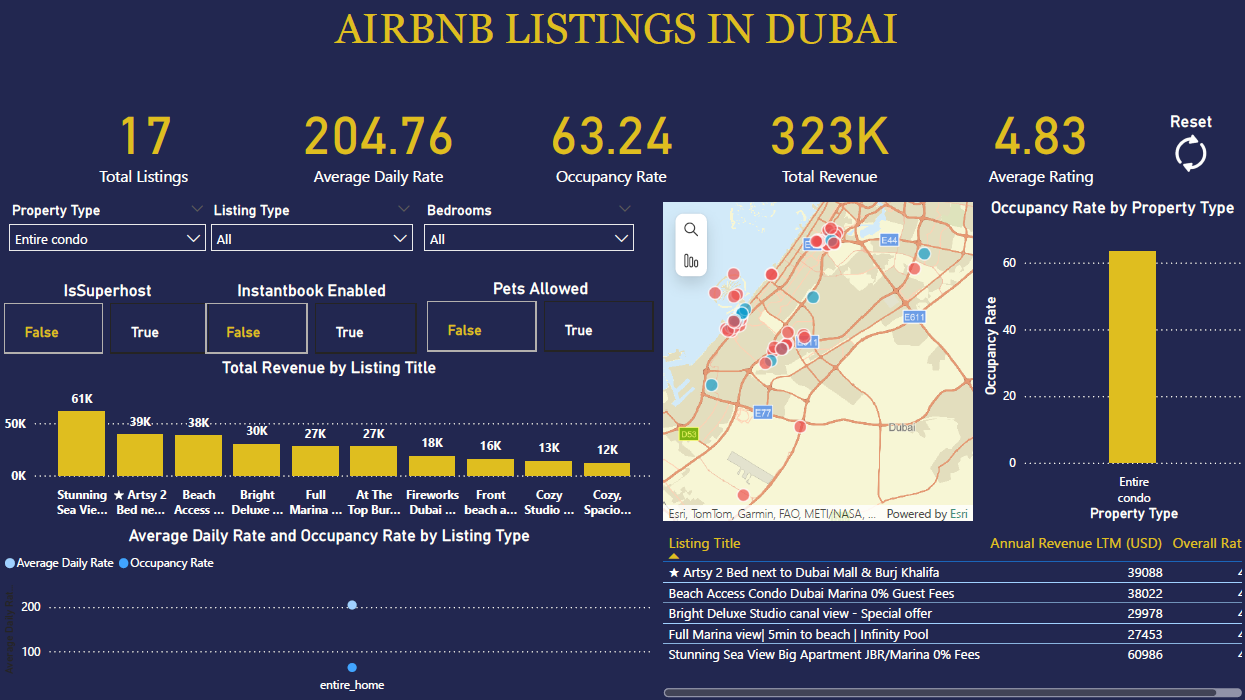

What the dashboard file says about the page in this screenshot:
{"tool":"powerbi","page":{"name":"Page 1","canvas":[1280,720],"ordinal":0},"visuals":[{"type":"card","fields":{"Values":["Measures Table.Average Daily Rate"]},"box":[263,82,252,120],"z":0},{"type":"card","fields":{"Values":["Measures Table.Average Rating"]},"box":[958,82,222,120],"z":1000},{"type":"card","fields":{"Values":["Measures Table.Total Listings"]},"box":[28,82,240,120],"z":2000},{"type":"card","fields":{"Values":["Measures Table.Occupancy Rate"]},"box":[510,82,236,120],"z":3000},{"type":"card","fields":{"Values":["Measures Table.Total Revenue"]},"box":[741,82,222,120],"z":4000},{"type":"slicer","fields":{"Values":["Cleaned_Listings.Property Type"]},"box":[0,202.4,221.8,84.2],"z":6000},{"type":"slicer","fields":{"Values":["Cleaned_Listings.Listing Type"]},"box":[207.3,202.4,226.7,84.2],"z":7000},{"type":"slicer","fields":{"Values":["Cleaned_Listings.Bedrooms"]},"box":[425.9,202.4,234.8,84.2],"z":8000},{"type":"advancedSlicerVisual","fields":{"Values":["Cleaned_Listings.IsSuperhost"]},"box":[0,286.6,221.8,81],"z":9000},{"type":"advancedSlicerVisual","fields":{"Values":["Cleaned_Listings.Instantbook Enabled"]},"box":[207.3,286.6,226.7,81],"z":10000},{"type":"advancedSlicerVisual","fields":{"Values":["Cleaned_Listings.Pets Allowed"]},"box":[434,285,242.9,81],"z":11000},{"type":"clusteredColumnChart","fields":{"Category":["Cleaned_Listings.Listing Title"],"Y":["Measures Table.Total Revenue"]},"box":[0,365.9,676.8,173.3],"z":12000},{"type":"lineChart","fields":{"Y":["Measures Table.Average Daily Rate","Measures Table.Occupancy Rate"],"Category":["Cleaned_Listings.Listing Type"]},"box":[0,539.2,676.8,181.4],"z":13000},{"type":"esriVisual","fields":{"Longitude":["Cleaned_Listings.Longitude"],"Latitude":["Cleaned_Listings.Latitude"],"Color":["Cleaned_Listings.Airbnb Superhost"]},"box":[676.8,202.4,327.1,336.8],"z":14000},{"type":"clusteredColumnChart","fields":{"Category":["Cleaned_Listings.Property Type"],"Y":["Measures Table.Occupancy Rate"]},"box":[1003.9,202.4,276.9,336.8],"z":16000},{"type":"tableEx","fields":{"Values":["Cleaned_Listings.Listing Title","Sum(Cleaned_Listings.Annual Revenue LTM (USD))","Sum(Cleaned_Listings.Overall Rating)"]},"box":[676,540,604,180],"z":17000},{"type":"textbox","box":[338.6,0,634.3,82.9],"z":17001},{"type":"image","title":"Reset ","box":[1180,114,86,68],"z":17003}]}

Visuals, with their boxes in screenshot pixels (x1, y1, x2, y2), scaled from the page's 1280x720 canvas onto the 1245x700 screenshot:
card - Measures Table.Average Daily Rate: left=256, top=80, right=501, bottom=196
card - Measures Table.Average Rating: left=932, top=80, right=1148, bottom=196
card - Measures Table.Total Listings: left=27, top=80, right=261, bottom=196
card - Measures Table.Occupancy Rate: left=496, top=80, right=726, bottom=196
card - Measures Table.Total Revenue: left=721, top=80, right=937, bottom=196
slicer - Cleaned_Listings.Property Type: left=0, top=197, right=216, bottom=279
slicer - Cleaned_Listings.Listing Type: left=202, top=197, right=422, bottom=279
slicer - Cleaned_Listings.Bedrooms: left=414, top=197, right=643, bottom=279
advancedSlicerVisual - Cleaned_Listings.IsSuperhost: left=0, top=279, right=216, bottom=357
advancedSlicerVisual - Cleaned_Listings.Instantbook Enabled: left=202, top=279, right=422, bottom=357
advancedSlicerVisual - Cleaned_Listings.Pets Allowed: left=422, top=277, right=658, bottom=356
clusteredColumnChart - Cleaned_Listings.Listing Title x Measures Table.Total Revenue: left=0, top=356, right=658, bottom=524
lineChart - Measures Table.Average Daily Rate x Measures Table.Occupancy Rate: left=0, top=524, right=658, bottom=699
esriVisual - Cleaned_Listings.Longitude x Cleaned_Listings.Latitude: left=658, top=197, right=976, bottom=524
clusteredColumnChart - Cleaned_Listings.Property Type x Measures Table.Occupancy Rate: left=976, top=197, right=1244, bottom=524
tableEx - Cleaned_Listings.Listing Title x Sum(Cleaned_Listings.Annual Revenue LTM (USD)): left=658, top=525, right=1244, bottom=699
textbox: left=329, top=0, right=946, bottom=81
"Reset " image: left=1148, top=111, right=1231, bottom=177
